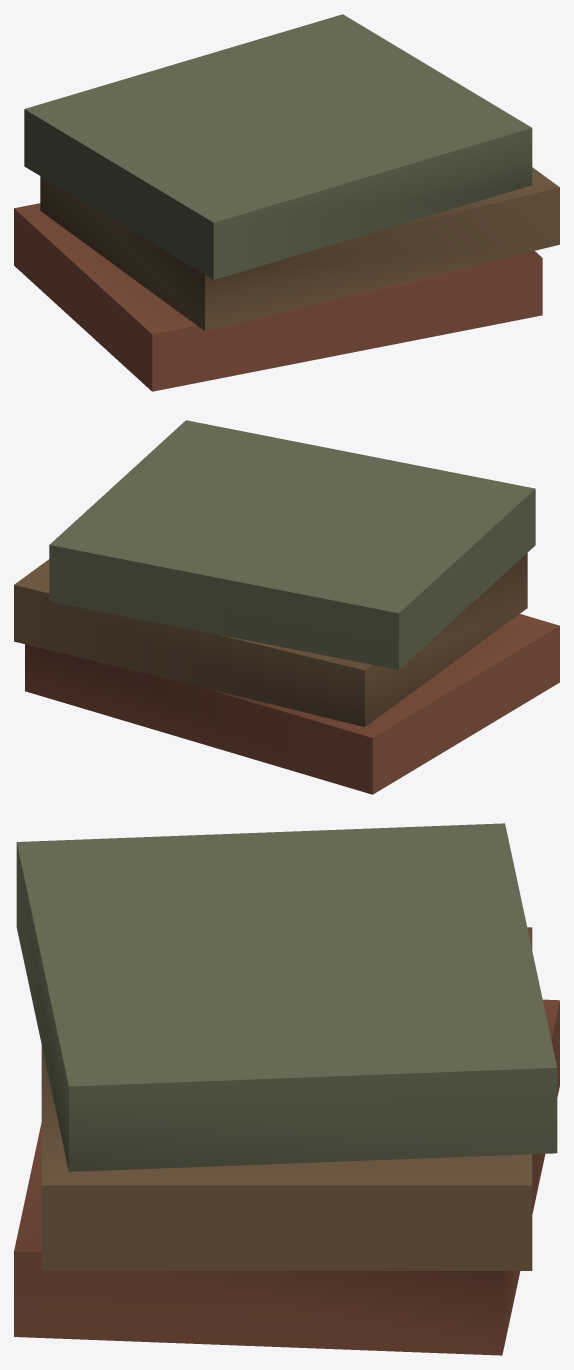
File: bedside_books.glb
The picture shows the model from 3 angles, top to bottom: view 1: azimuth 30°, elevation 25°; view 2: azimuth 150°, elevation 25°; view 3: azimuth 270°, elevation 25°; orthographic projection. The views are drawn at different scales.
Visible parts, largest first — view 1: bedside_books; view 2: bedside_books; view 3: bedside_books.
Part boxes in pixels (<box>): bedside_books: <box>14,14,559,391</box>; bedside_books: <box>14,420,559,794</box>; bedside_books: <box>14,823,559,1355</box>.
Bounding box in the file's own units: 0.1815 × 0.075 × 0.1448.
